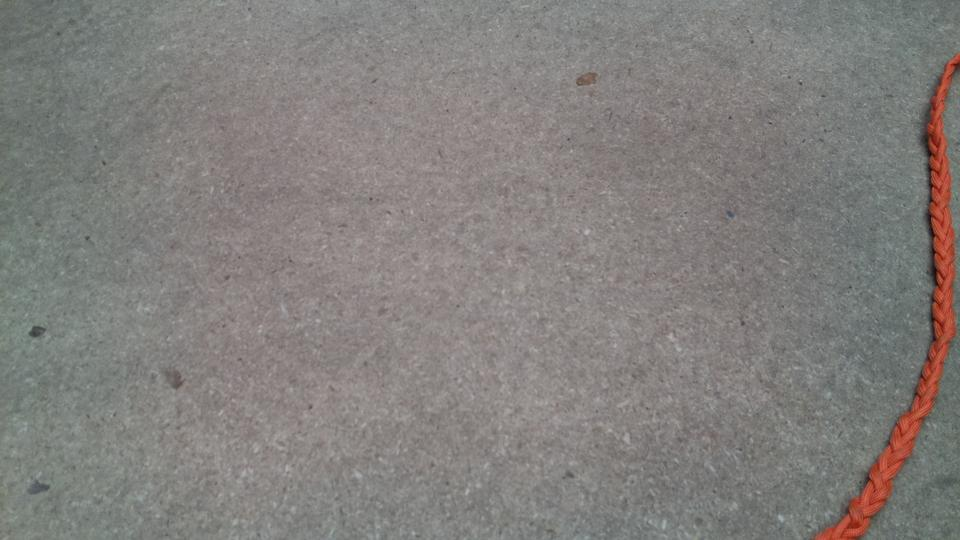rope: (832, 54, 960, 540)
